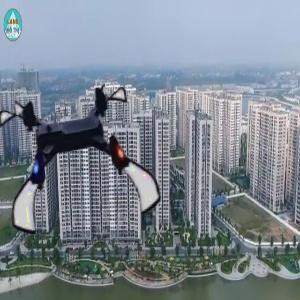drone: (3, 84, 158, 239)
